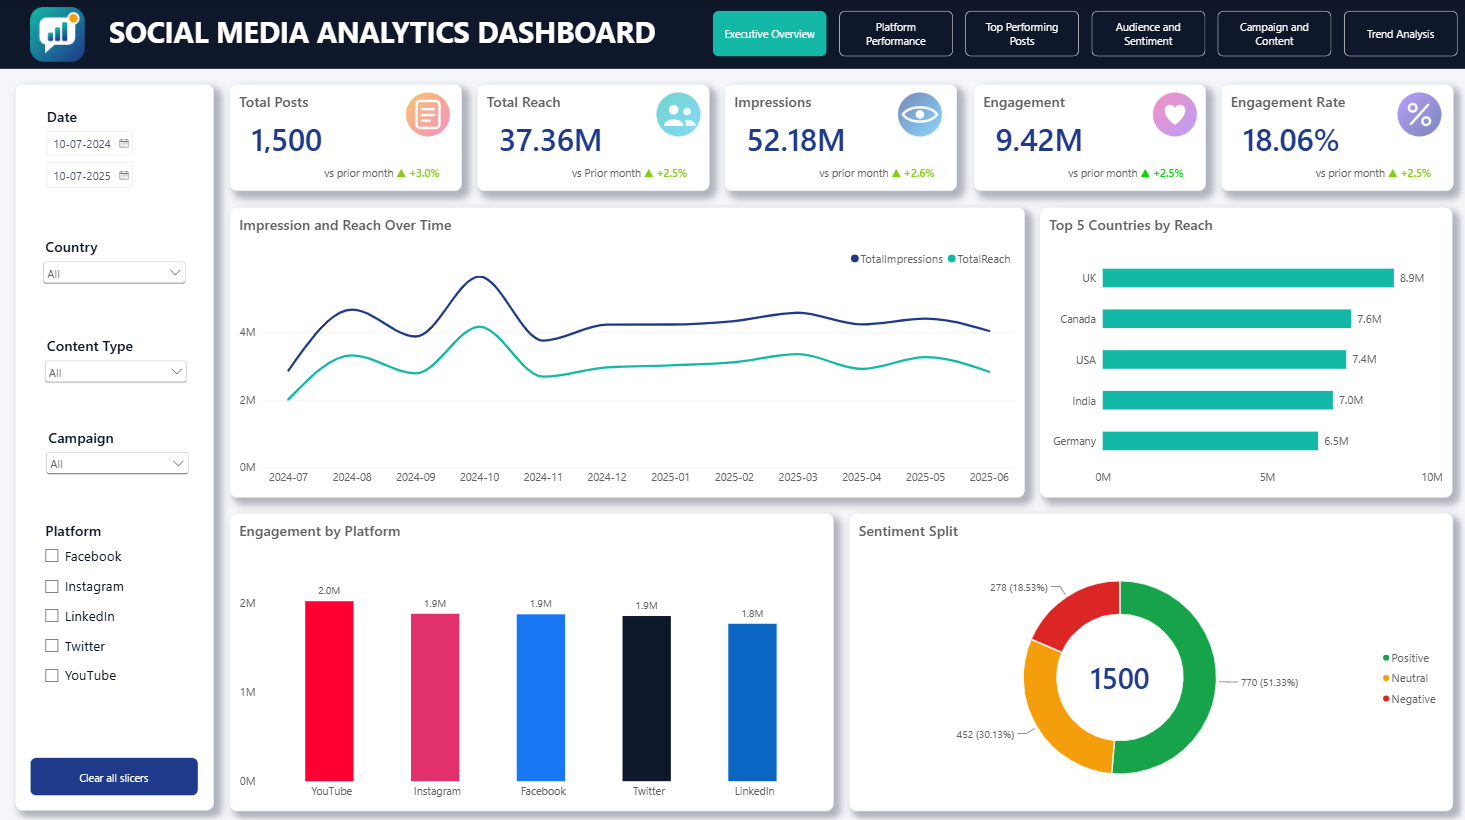

Layout of this report page (visuals, bound fields, positions):
{"tool":"powerbi","page":{"name":"Executive Overview","canvas":[1920,1080],"ordinal":0},"visuals":[{"type":"cardVisual","title":"Engagement","fields":{"Data":["SocialMediaInsights.TotalEngagement"]},"box":[1272,110,304,140],"z":0},{"type":"cardVisual","title":"Total Reach","fields":{"Data":["SocialMediaInsights.TotalReach"]},"box":[624,110,304,140],"z":1000},{"type":"cardVisual","title":"Engagement Rate","fields":{"Data":["SocialMediaInsights.EngagementRate"]},"box":[1596,110,304,140],"z":2000},{"type":"cardVisual","title":"Impressions","fields":{"Data":["SocialMediaInsights.TotalImpressions"]},"box":[948,110,304,140],"z":3000},{"type":"lineChart","title":"Impression and Reach Over Time","fields":{"Category":["DateTable.Year-Month"],"Y":["SocialMediaInsights.TotalImpressions","SocialMediaInsights.TotalReach"]},"box":[300,270,1040,380],"z":4000},{"type":"barChart","title":"Top 5 Countries by Reach","fields":{"Category":["SocialMediaInsights.Country"],"Y":["SocialMediaInsights.TotalReach"]},"box":[1360,270,540,380],"z":5000},{"type":"columnChart","title":"Engagement by Platform","fields":{"Category":["SocialMediaInsights.Platform"],"Y":["SocialMediaInsights.TotalEngagement"]},"box":[300,670,790,390],"z":6000},{"type":"donutChart","title":"Sentiment Split","fields":{"Category":["SocialMediaInsights.Sentiment"],"Y":["SocialMediaInsights.TotalPosts"]},"box":[1110,670,790,390],"z":7000},{"type":"cardVisual","title":"Total Posts","fields":{"Data":["SocialMediaInsights.TotalPosts"]},"box":[300,110,304,140],"z":8000},{"type":"shape","box":[0,0,1920,90],"z":9000},{"type":"textbox","box":[120,6.7,760,76.7],"z":10000},{"type":"shape","box":[20,110,260,950],"z":11000},{"type":"pageNavigator","box":[919,4.3,1000,80],"z":12000},{"type":"slicer","fields":{"Values":["DateTable.Date"]},"box":[40.9,130,218,165.8],"z":13000},{"type":"slicer","fields":{"Values":["SocialMediaInsights.Platform"]},"box":[38.6,670,220,250],"z":14000},{"type":"slicer","fields":{"Values":["SocialMediaInsights.Country"]},"box":[40,300,220,100],"z":15000},{"type":"slicer","fields":{"Values":["SocialMediaInsights.ContentType"]},"box":[40.9,430,220,100],"z":16000},{"type":"slicer","fields":{"Values":["SocialMediaInsights.Campaign"]},"box":[43.2,550,220,100],"z":17000},{"type":"actionButton","box":[40,990,220,50],"z":18000},{"type":"image","box":[530,120,60,60],"z":19000},{"type":"image","box":[1170,120,64,60],"z":20000},{"type":"image","box":[1506,120,60,60],"z":21000},{"type":"image","box":[1826,120,60,60],"z":22000},{"type":"image","box":[858,120,60,60],"z":23000},{"type":"image","box":[0,0,150,90],"z":24000}]}

Visuals, with their boxes in screenshot pixels (x1, y1, x2, y2), scaled from the page's 1920x1080 canvas onto the 1465x820 screenshot:
"Engagement" cardVisual: {"x1": 971, "y1": 84, "x2": 1203, "y2": 190}
"Total Reach" cardVisual: {"x1": 476, "y1": 84, "x2": 708, "y2": 190}
"Engagement Rate" cardVisual: {"x1": 1218, "y1": 84, "x2": 1450, "y2": 190}
"Impressions" cardVisual: {"x1": 723, "y1": 84, "x2": 955, "y2": 190}
"Impression and Reach Over Time" lineChart: {"x1": 229, "y1": 205, "x2": 1022, "y2": 494}
"Top 5 Countries by Reach" barChart: {"x1": 1038, "y1": 205, "x2": 1450, "y2": 494}
"Engagement by Platform" columnChart: {"x1": 229, "y1": 509, "x2": 832, "y2": 805}
"Sentiment Split" donutChart: {"x1": 847, "y1": 509, "x2": 1450, "y2": 805}
"Total Posts" cardVisual: {"x1": 229, "y1": 84, "x2": 461, "y2": 190}
shape: {"x1": 0, "y1": 0, "x2": 1464, "y2": 68}
textbox: {"x1": 92, "y1": 5, "x2": 671, "y2": 63}
shape: {"x1": 15, "y1": 84, "x2": 214, "y2": 805}
pageNavigator: {"x1": 701, "y1": 3, "x2": 1464, "y2": 64}
slicer - DateTable.Date: {"x1": 31, "y1": 99, "x2": 198, "y2": 225}
slicer - SocialMediaInsights.Platform: {"x1": 29, "y1": 509, "x2": 197, "y2": 699}
slicer - SocialMediaInsights.Country: {"x1": 31, "y1": 228, "x2": 198, "y2": 304}
slicer - SocialMediaInsights.ContentType: {"x1": 31, "y1": 326, "x2": 199, "y2": 402}
slicer - SocialMediaInsights.Campaign: {"x1": 33, "y1": 418, "x2": 201, "y2": 494}
actionButton: {"x1": 31, "y1": 752, "x2": 198, "y2": 790}
image: {"x1": 404, "y1": 91, "x2": 450, "y2": 137}
image: {"x1": 893, "y1": 91, "x2": 942, "y2": 137}
image: {"x1": 1149, "y1": 91, "x2": 1195, "y2": 137}
image: {"x1": 1393, "y1": 91, "x2": 1439, "y2": 137}
image: {"x1": 655, "y1": 91, "x2": 700, "y2": 137}
image: {"x1": 0, "y1": 0, "x2": 114, "y2": 68}
